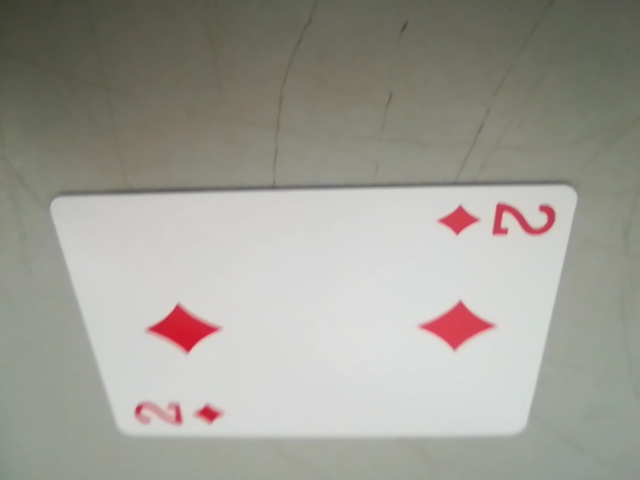fk 2: (435, 192, 564, 247), (125, 392, 228, 436)
